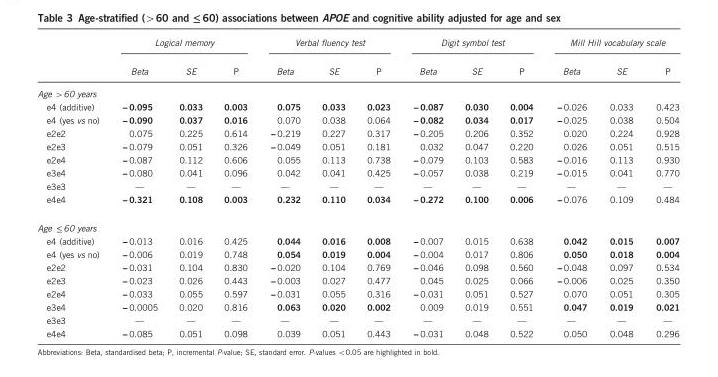table: (36, 36, 678, 338)
table column: (36, 36, 110, 338), (110, 36, 167, 338), (544, 36, 597, 338), (258, 36, 310, 338), (401, 36, 453, 338), (212, 36, 258, 338), (355, 36, 401, 338), (498, 36, 544, 338), (597, 36, 643, 338), (167, 36, 212, 338), (310, 36, 355, 338), (453, 36, 498, 338), (643, 36, 678, 338)
table column header: (36, 36, 678, 82)
table projected row header: (36, 212, 678, 234), (36, 82, 678, 100)
table row: (36, 56, 678, 82), (36, 212, 678, 234), (36, 36, 678, 56), (36, 192, 678, 212), (36, 82, 678, 100), (36, 112, 678, 126), (36, 178, 678, 192), (36, 246, 678, 260), (36, 299, 678, 313), (36, 126, 678, 139), (36, 139, 678, 152), (36, 152, 678, 165), (36, 165, 678, 178), (36, 260, 678, 273), (36, 273, 678, 286), (36, 286, 678, 299), (36, 313, 678, 326), (36, 100, 678, 112), (36, 234, 678, 246), (36, 326, 678, 338)
table spanning cell: (110, 36, 258, 56), (258, 36, 401, 56), (401, 36, 544, 56), (544, 36, 678, 56)
